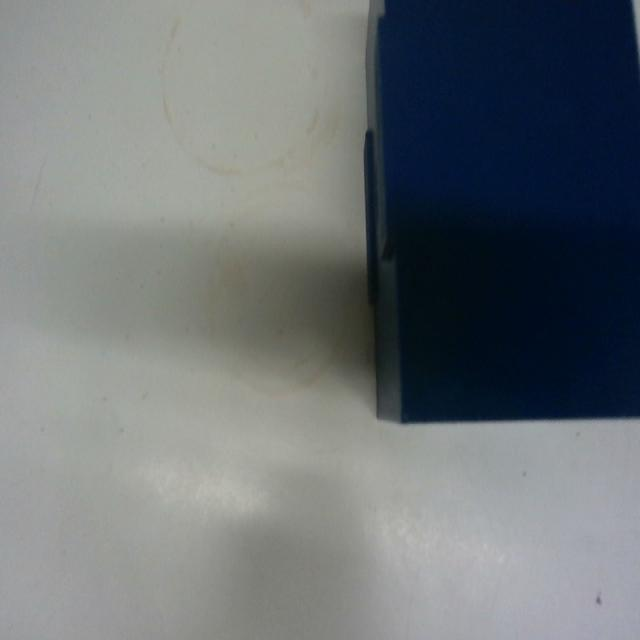Blue Cuboid: (361, 0, 639, 425)
